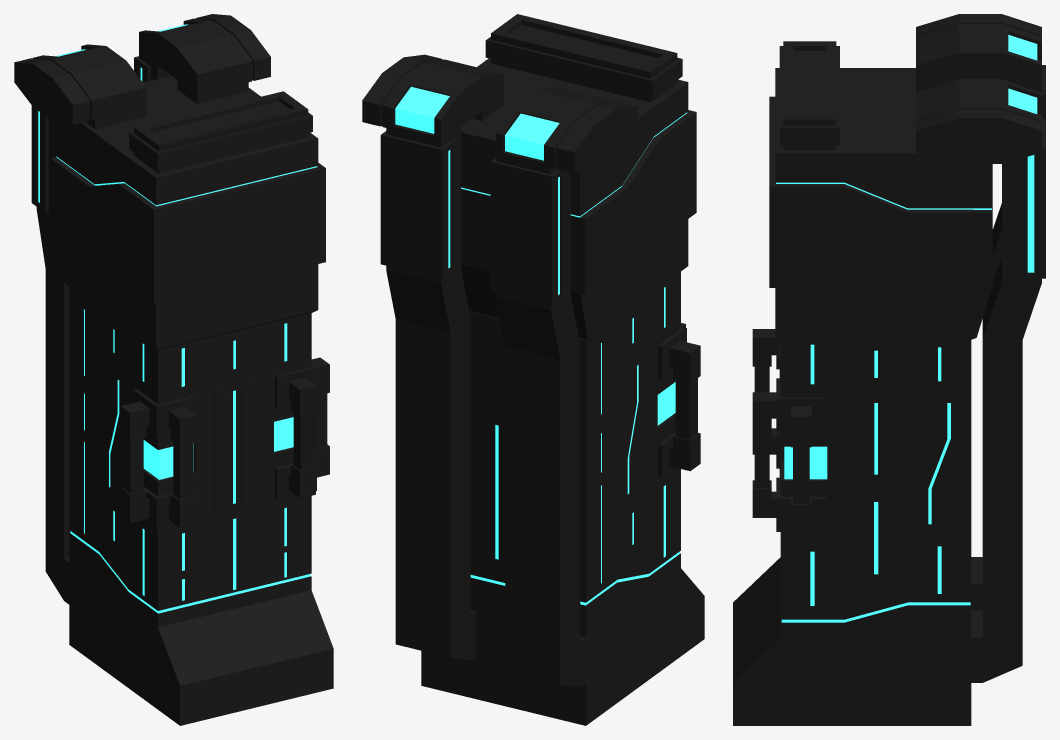
The model's file is Panel.glb.
The picture shows the model from 3 angles, left to right: view 1: azimuth 30°, elevation 25°; view 2: azimuth 150°, elevation 25°; view 3: azimuth 270°, elevation 25°; orthographic projection. The views are drawn at different scales.
Parts seen in each view (by area): view 1: Panel; view 2: Panel; view 3: Panel.
Boxes of the visible parts, left/top/right/bottom form: Panel: left=14, top=14, right=333, bottom=725; Panel: left=362, top=14, right=704, bottom=725; Panel: left=733, top=14, right=1045, bottom=725.
Size of the model in its own units: 5.21 by 14.35 by 6.56.
Materials: 2 (1 with a texture image).
